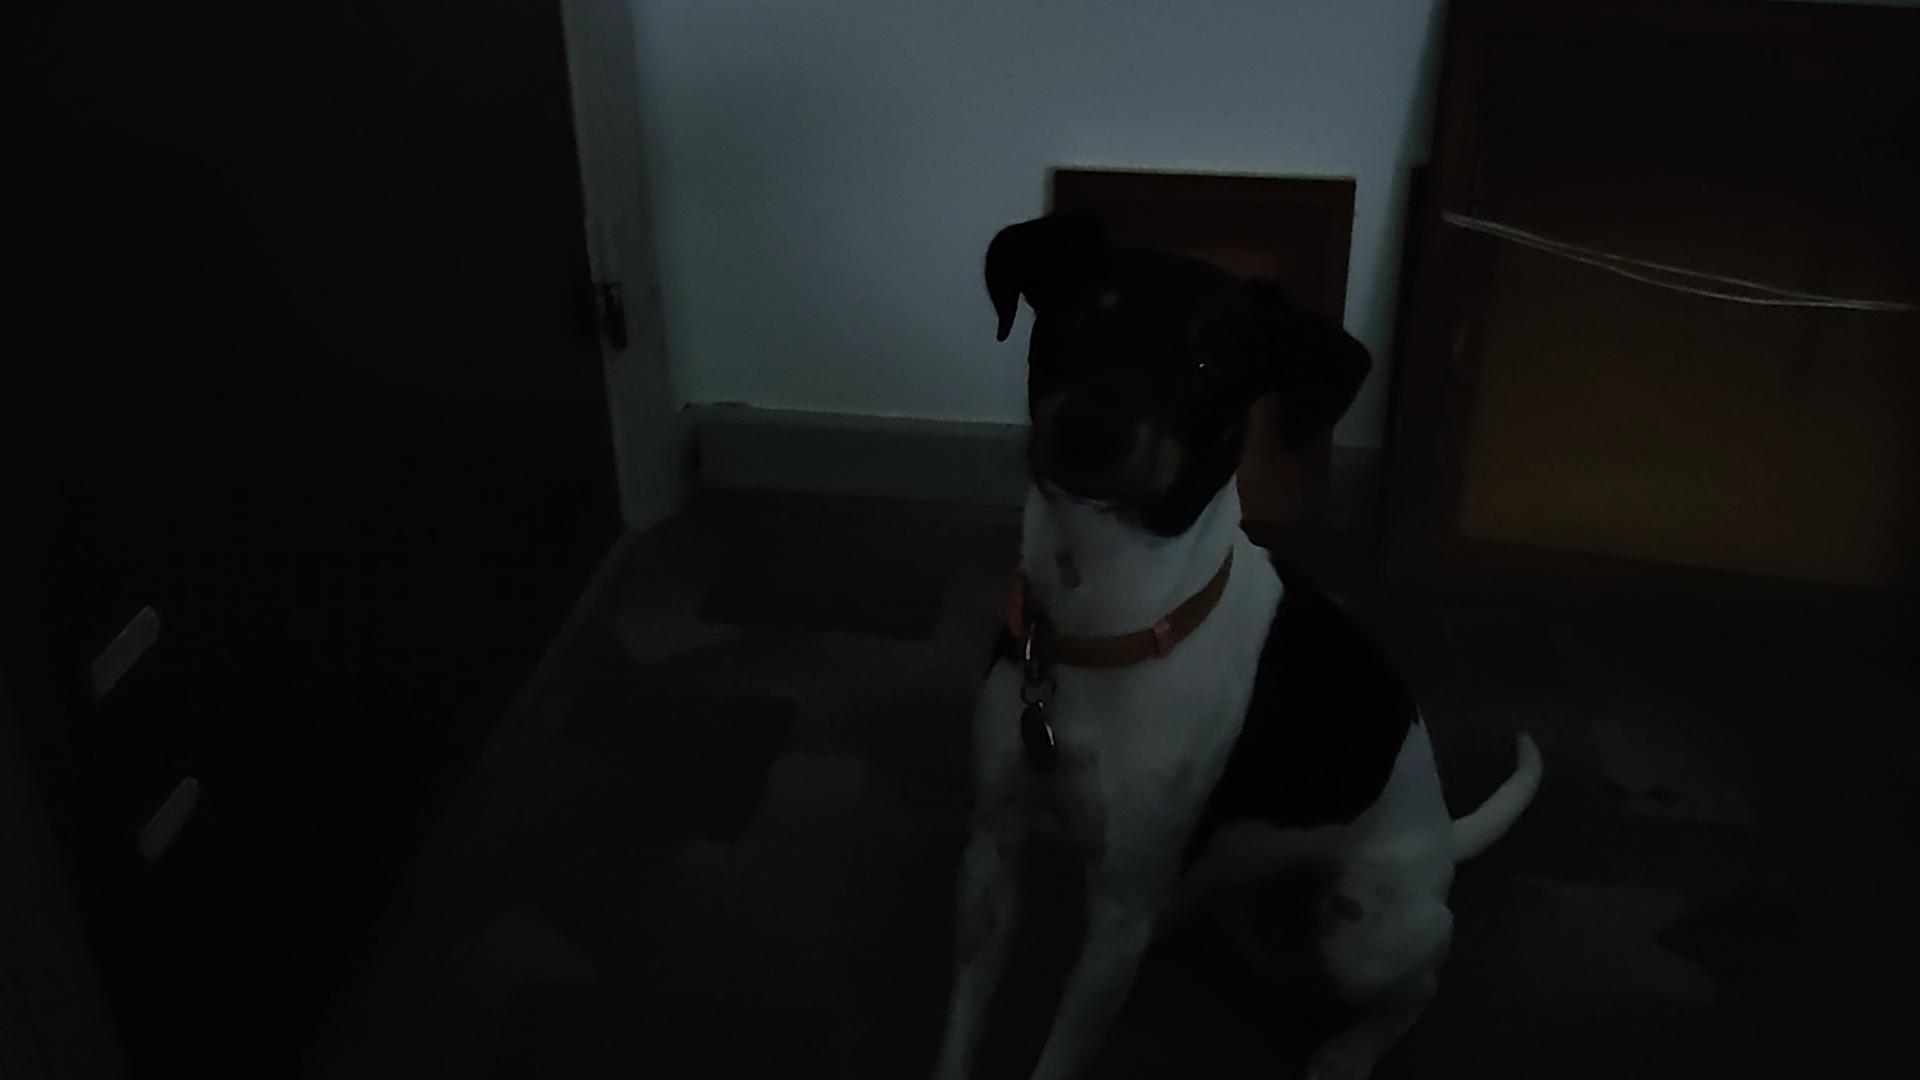Dog: (895, 187, 1549, 1079)
